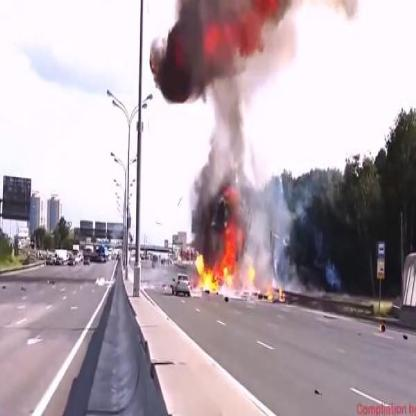fire: (193, 189, 287, 304)
